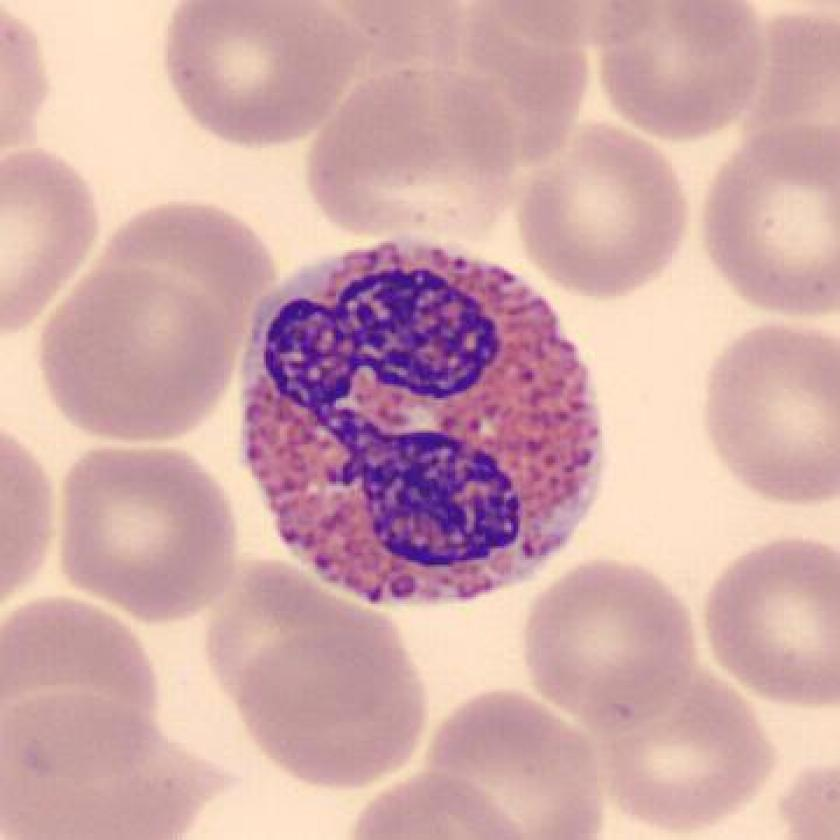eosinophil: (230, 230, 612, 626)
